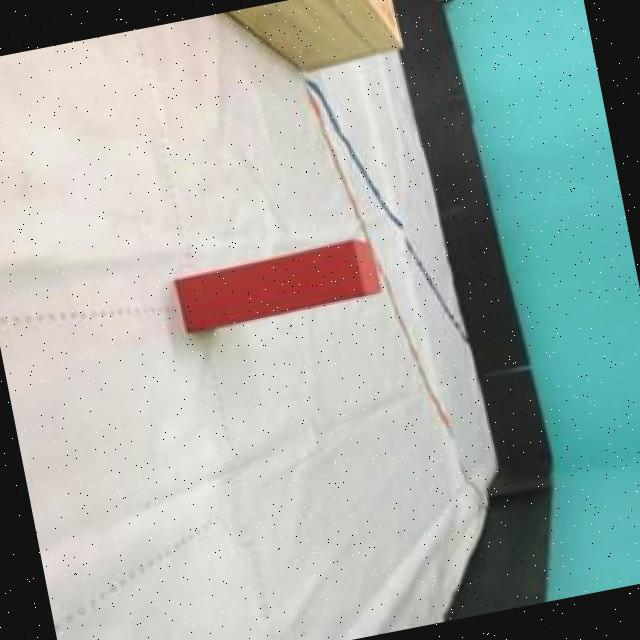redbox: (172, 238, 382, 335)
